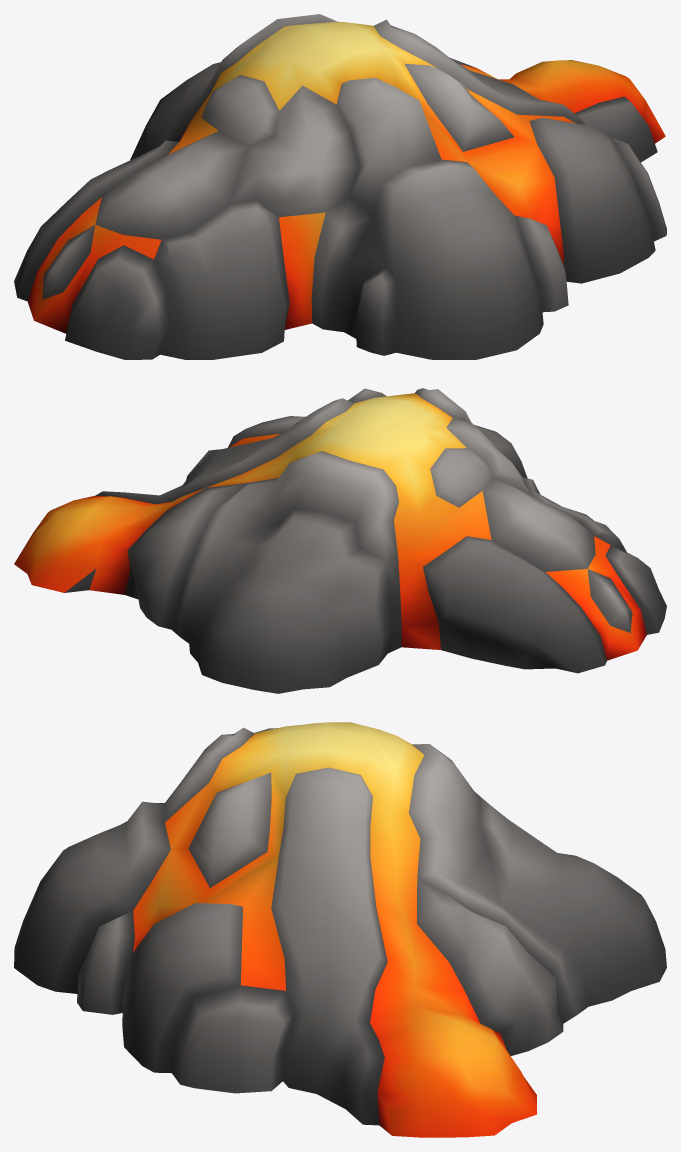
File: m_Rock06_A.fbx
3 views of the same model, one above another, from view 1: azimuth 30°, elevation 25°; view 2: azimuth 150°, elevation 25°; view 3: azimuth 270°, elevation 25° (orthographic). The views are drawn at different scales.
Parts seen in each view (by area): view 1: m_Rock06_A; view 2: m_Rock06_A; view 3: m_Rock06_A.
Part boxes in pixels (x1,y1,x2,y2): m_Rock06_A: [14, 14, 666, 359]; m_Rock06_A: [14, 388, 666, 693]; m_Rock06_A: [14, 722, 666, 1137].
Size of the model in its own units: 1419 by 432 by 1158.
